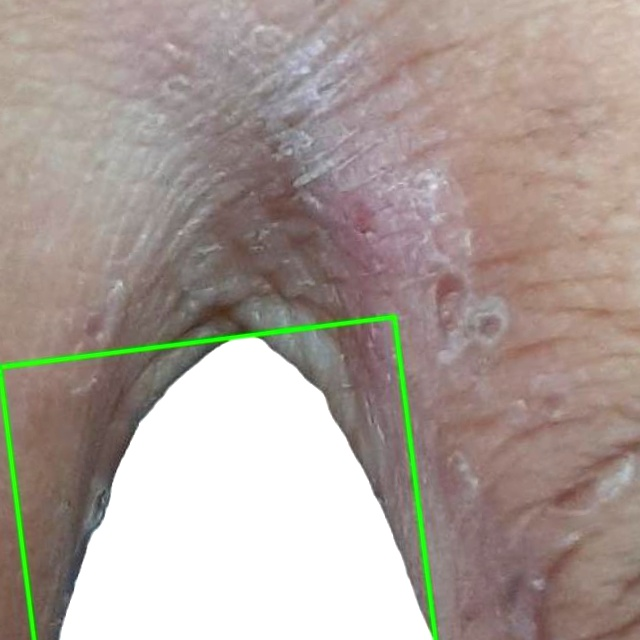Scabies: (0, 318, 436, 639)
